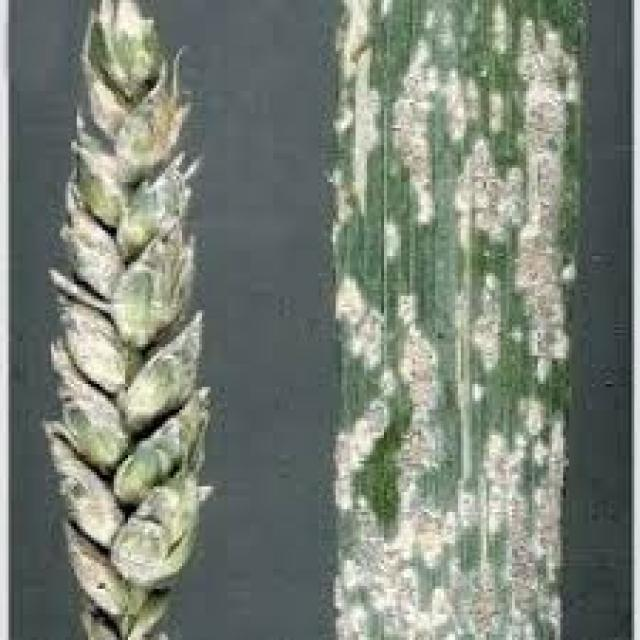Powdery_Mildew: (329, 0, 573, 640), (53, 0, 207, 640)
